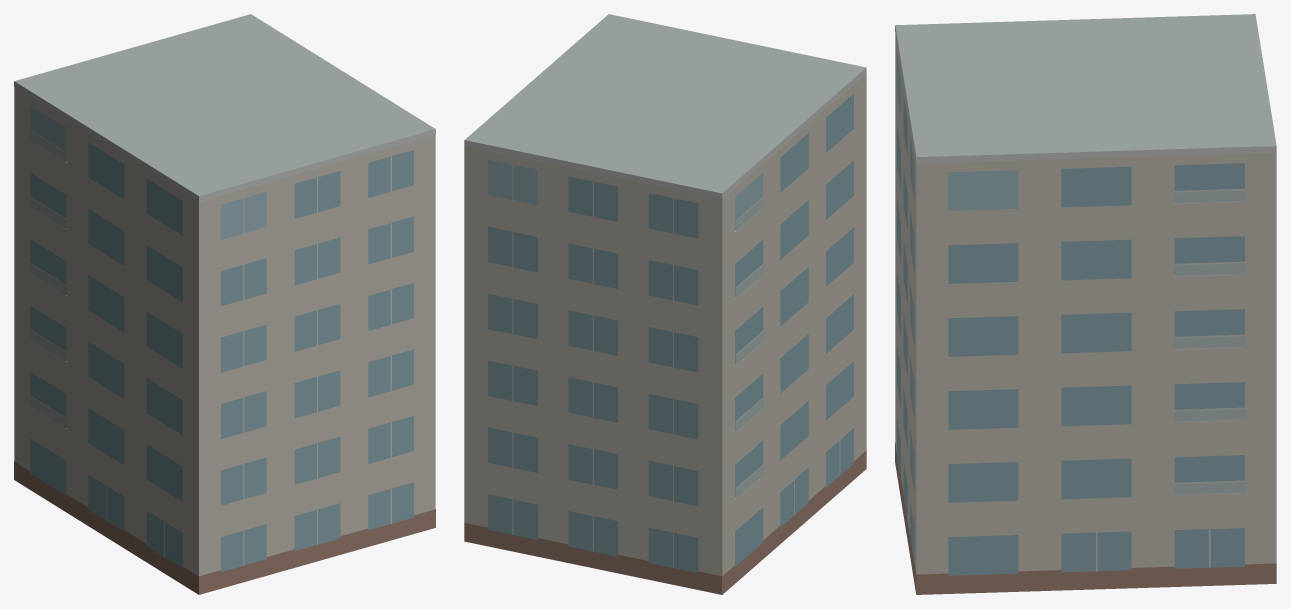
The model's file is survey-upis-32888563.glb.
3 renders of one model, left to right at view 1: azimuth 30°, elevation 25°; view 2: azimuth 150°, elevation 25°; view 3: azimuth 270°, elevation 25°, orthographic. The views are drawn at different scales.
Visible parts, largest first — view 1: survey-upis-32888563.tmp; view 2: survey-upis-32888563.tmp; view 3: survey-upis-32888563.tmp.
Boxes of the visible parts, <box> form: survey-upis-32888563.tmp: <box>14,14,435,594</box>; survey-upis-32888563.tmp: <box>464,14,866,594</box>; survey-upis-32888563.tmp: <box>895,14,1276,594</box>.
Size of the model in its own units: 11.51 by 16.4 by 12.96.
